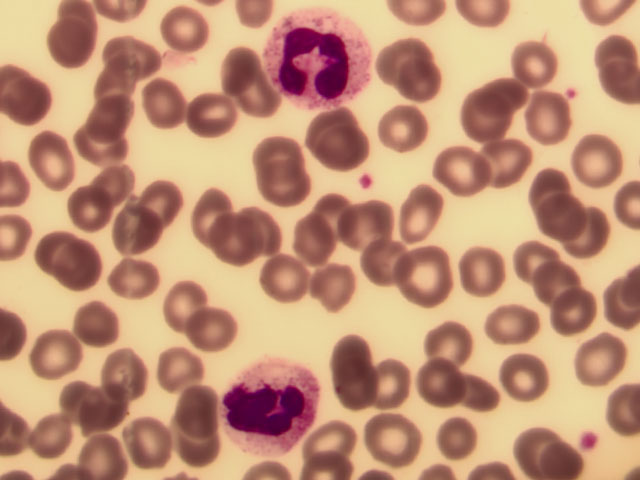Platelets: (577, 425, 601, 450), (562, 83, 580, 104), (362, 177, 376, 189)
RBC: (45, 15, 98, 68), (23, 136, 76, 189), (76, 121, 129, 174), (86, 94, 139, 147), (87, 54, 140, 107), (106, 33, 159, 86), (160, 5, 213, 58), (137, 73, 190, 126), (178, 85, 231, 138), (208, 42, 261, 95), (227, 70, 280, 123), (244, 121, 297, 174), (256, 155, 309, 208), (241, 204, 294, 257), (208, 221, 261, 274), (186, 190, 239, 243), (143, 176, 196, 229), (105, 207, 158, 260), (97, 159, 150, 212), (70, 186, 123, 239), (24, 222, 77, 275), (40, 242, 93, 295), (112, 257, 165, 310), (153, 268, 206, 321), (185, 304, 238, 357), (95, 345, 148, 398), (70, 300, 123, 353), (30, 326, 83, 379), (47, 365, 100, 418), (80, 386, 133, 439), (27, 411, 80, 464), (78, 427, 131, 480), (124, 418, 177, 471), (171, 375, 224, 428), (149, 350, 202, 403), (171, 418, 224, 471), (303, 412, 356, 465), (359, 415, 412, 468), (426, 412, 479, 465), (452, 377, 505, 430), (412, 354, 465, 407), (425, 313, 478, 366), (368, 355, 421, 408), (327, 328, 380, 381), (313, 261, 366, 314), (258, 257, 311, 310), (282, 212, 335, 265), (299, 187, 352, 240), (344, 193, 397, 246), (391, 186, 444, 239), (364, 236, 417, 289), (399, 247, 452, 300), (453, 247, 506, 300), (504, 236, 557, 289), (529, 256, 582, 309), (544, 290, 597, 343), (482, 296, 535, 349), (500, 346, 553, 399), (563, 335, 616, 388), (565, 206, 618, 259), (525, 189, 578, 242), (523, 161, 576, 214), (561, 135, 614, 188), (522, 97, 575, 150), (481, 135, 534, 188), (426, 142, 479, 195), (375, 107, 428, 160), (390, 59, 443, 112), (377, 33, 430, 86), (458, 84, 511, 137), (476, 58, 529, 111), (503, 38, 556, 91), (1, 76, 53, 129)
WBC: (222, 353, 325, 455), (268, 7, 371, 106)
